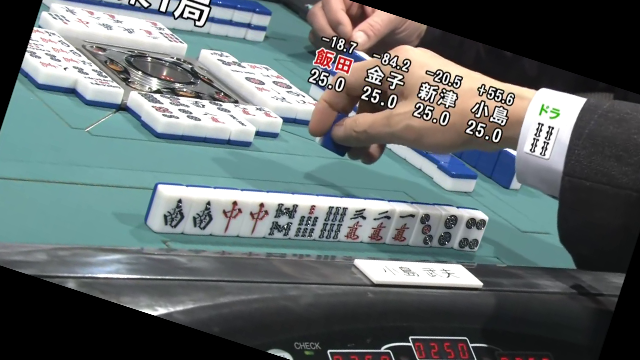Tehai: (147, 187, 497, 251)
